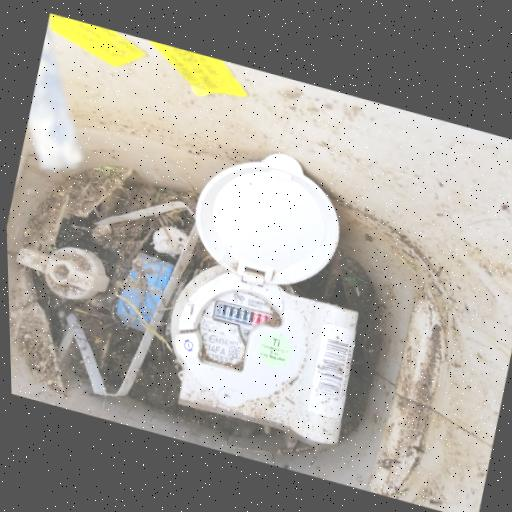0: (215, 303, 226, 318), (222, 305, 233, 320)
1: (243, 311, 253, 325)
2: (230, 307, 241, 322)
3: (236, 309, 246, 324)
7: (249, 311, 261, 327), (258, 315, 268, 328)
border_water_meter_number: (212, 299, 283, 338)
